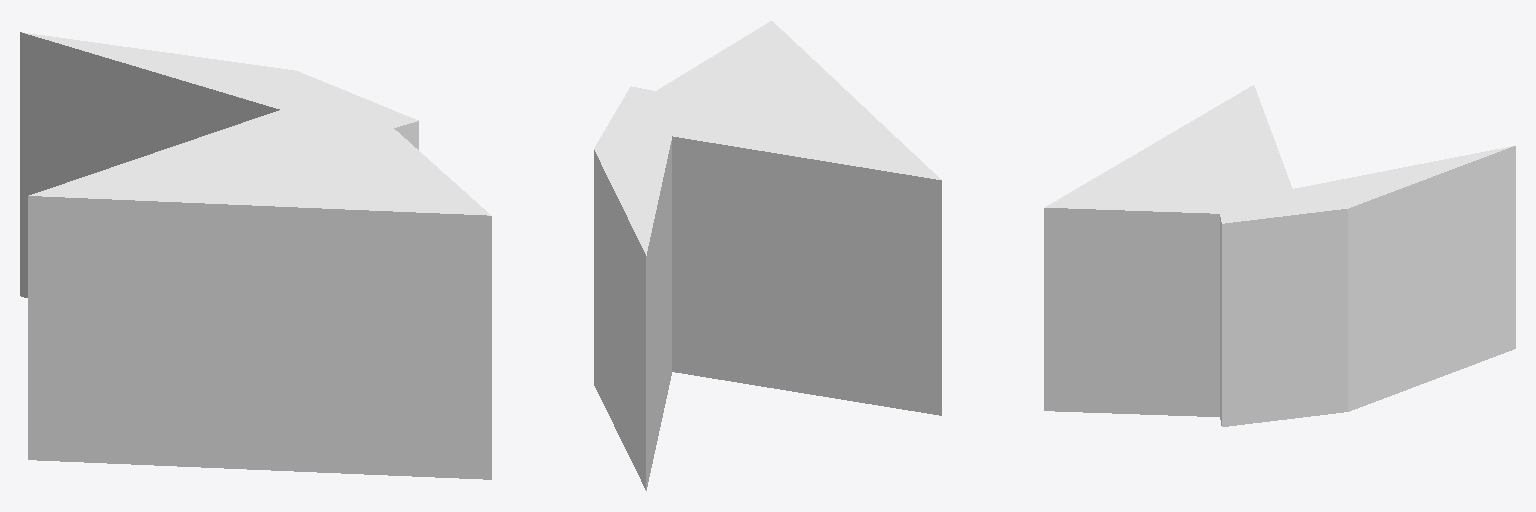
URDF robot description (7):
<?xml version="1.0" ?>
<robot name="7">
  <link concave="yes" name="baseLink">
    <contact>
    	<friction_anchor/>
    	   <lateral_friction value="1.0"/>
    </contact>
    <inertial>
      <origin rpy="0 0 0" xyz="0 0 0"/>
       <!-- mass controls penetration -->
       <mass value=".1"/>
       <inertia ixx="1e-4" ixy="0" ixz="0" iyy="1e-4" iyz="0" izz="1e-4"/>
    </inertial>
    <visual>
      <origin rpy="0 0 0" xyz="0 0 0"/>
      <geometry>
        <mesh filename="package://object_datasets/Tandem2D/meshes/7.obj"/>
      </geometry>
       <material name="white">
        <color rgba="1 1 1 1"/>
      </material>
    </visual>
    <collision>
      <origin rpy="0 0 0" xyz="0 0 0"/>
      <geometry>
        <mesh filename="package://object_datasets/Tandem2D/meshes/7.obj"/>
      </geometry>
    </collision>
  </link>
</robot>

--- What the picture shows (computed from the rendered views, not written in the file) ---
Views: 3 orthographic renders of the robot side by side, from view 1: azimuth 30°, elevation 25°; view 2: azimuth 150°, elevation 25°; view 3: azimuth 270°, elevation 25°.
Robot: 7 — 1 links, 0 joints (none); root link baseLink; default pose: all joints at 0.
Links seen in each view (by area): view 1: baseLink; view 2: baseLink; view 3: baseLink.
Boxes of the visible links, x1=… form: baseLink: x1=20, y1=32, x2=491, y2=479; baseLink: x1=594, y1=21, x2=941, y2=490; baseLink: x1=1044, y1=85, x2=1515, y2=426.
Bounding box of the posed robot: 0.11 × 0.1574 × 0.075 m (x, y, z).
Meshes: 1 distinct files referenced, 1 mesh visuals loaded (1 OBJ).
